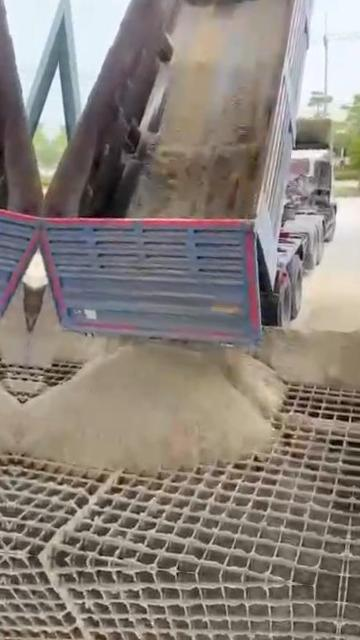sand: (17, 294, 360, 472), (39, 470, 120, 557), (282, 412, 360, 434)
